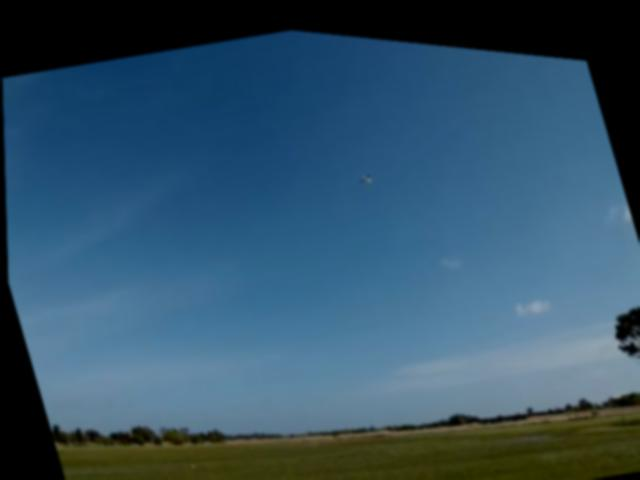uav: (352, 155, 379, 187)
